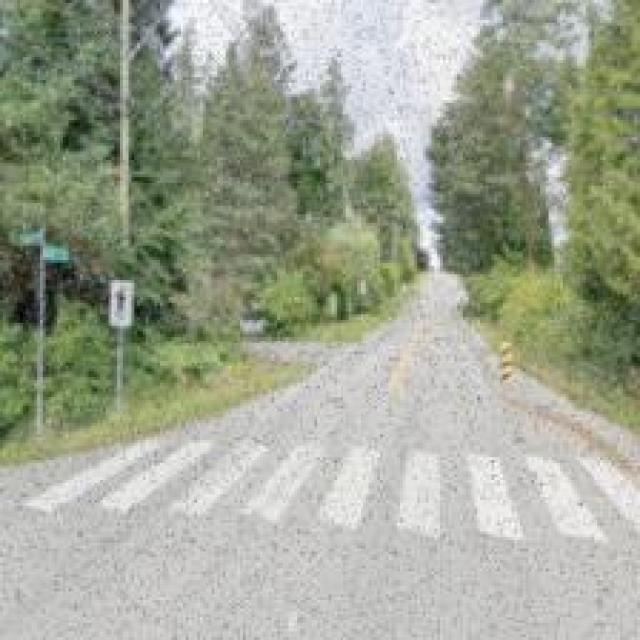obstacle: (33, 424, 640, 556)
